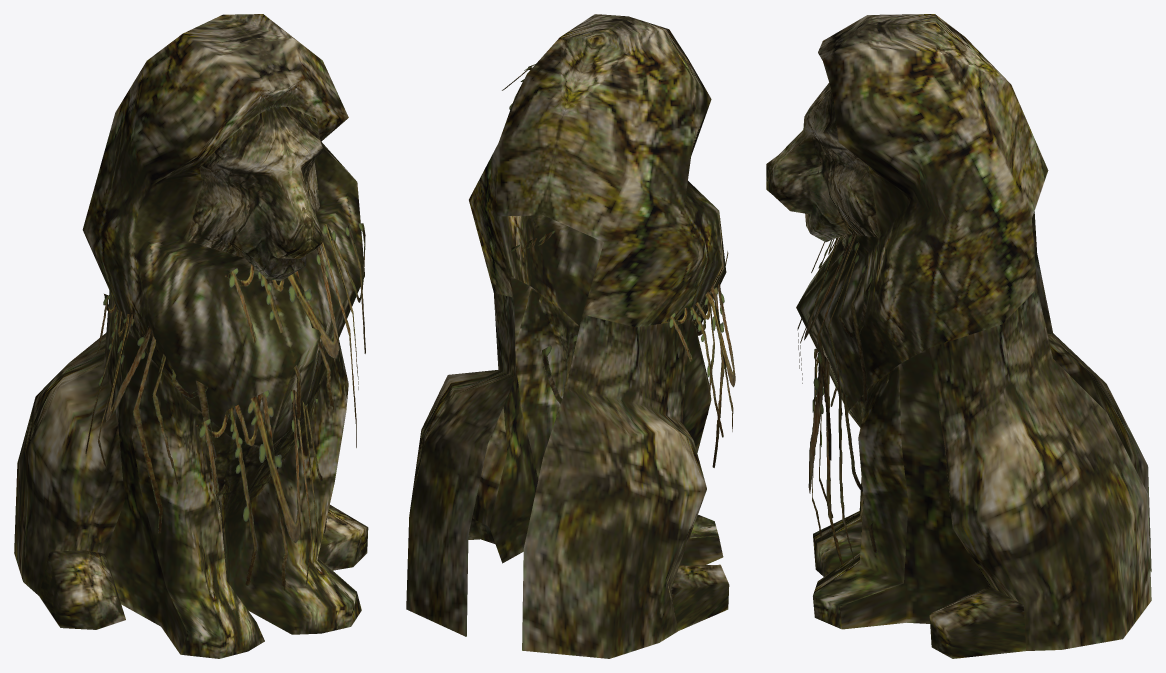
3 views of the same model, side by side, from view 1: azimuth 30°, elevation 25°; view 2: azimuth 150°, elevation 25°; view 3: azimuth 270°, elevation 25° (orthographic). The views are drawn at different scales.
Visible parts, largest first — view 1: SMDImport; view 2: SMDImport; view 3: SMDImport.
Boxes of the visible parts, x1=… form: SMDImport: x1=14, y1=14, x2=368, y2=658; SMDImport: x1=406, y1=14, x2=735, y2=658; SMDImport: x1=766, y1=14, x2=1151, y2=658.
Bounding box in the file's own units: 99.82 × 184 × 112.
